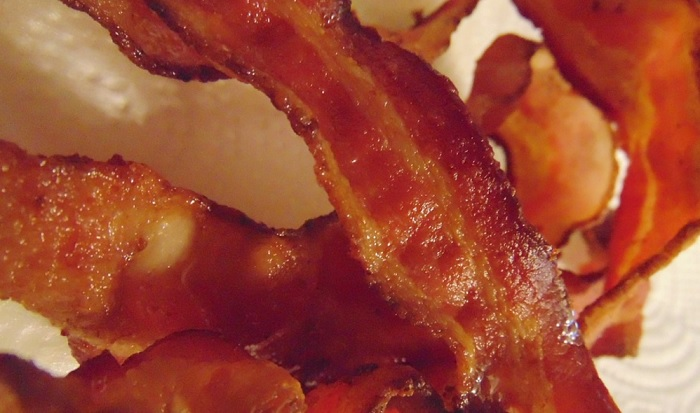bacon: (82, 1, 599, 413)
